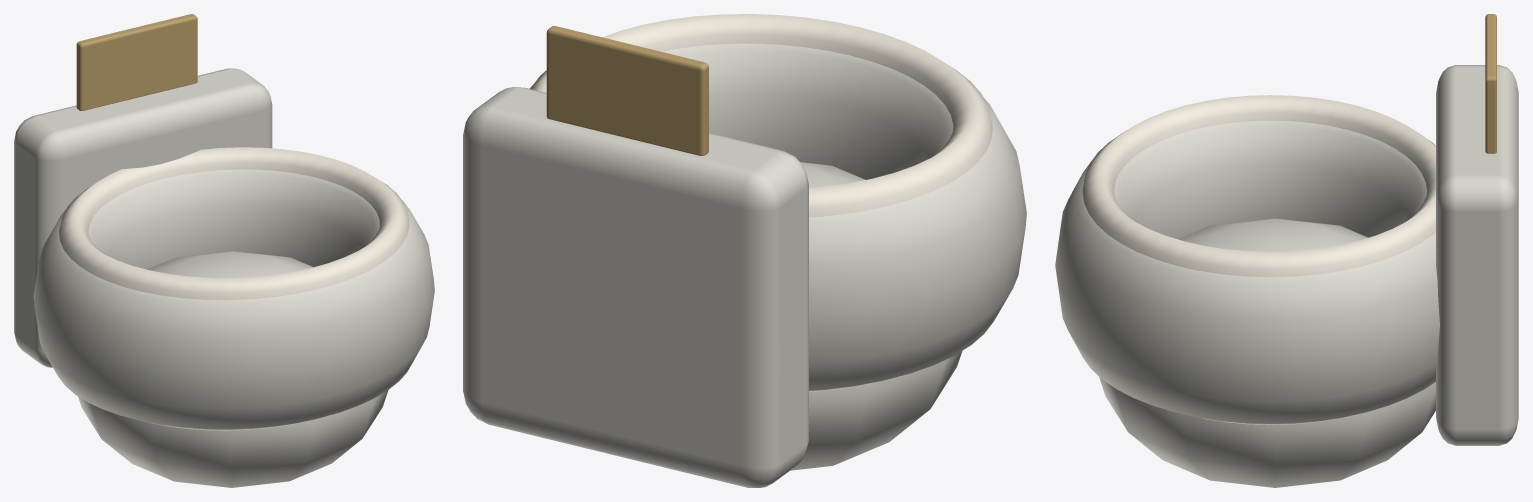
The model's file is toilet-12-0.glb.
The picture shows the model from 3 angles, left to right: view 1: azimuth 30°, elevation 25°; view 2: azimuth 150°, elevation 25°; view 3: azimuth 270°, elevation 25°; orthographic projection. The views are drawn at different scales.
Parts seen in each view (by area): view 1: upholstery, part, flush-plate; view 2: upholstery, part, flush-plate; view 3: upholstery, part, flush-plate.
Boxes of the visible parts, x1,y1,x2,y2 form: upholstery: [14, 68, 434, 487]; part: [59, 147, 409, 300]; flush-plate: [76, 14, 197, 110]; upholstery: [463, 43, 1026, 487]; part: [531, 14, 992, 217]; flush-plate: [546, 26, 708, 155]; upholstery: [1055, 65, 1518, 487]; part: [1082, 95, 1435, 277]; flush-plate: [1485, 14, 1496, 153].
Size of the model in its own units: 1 by 1 by 1.
